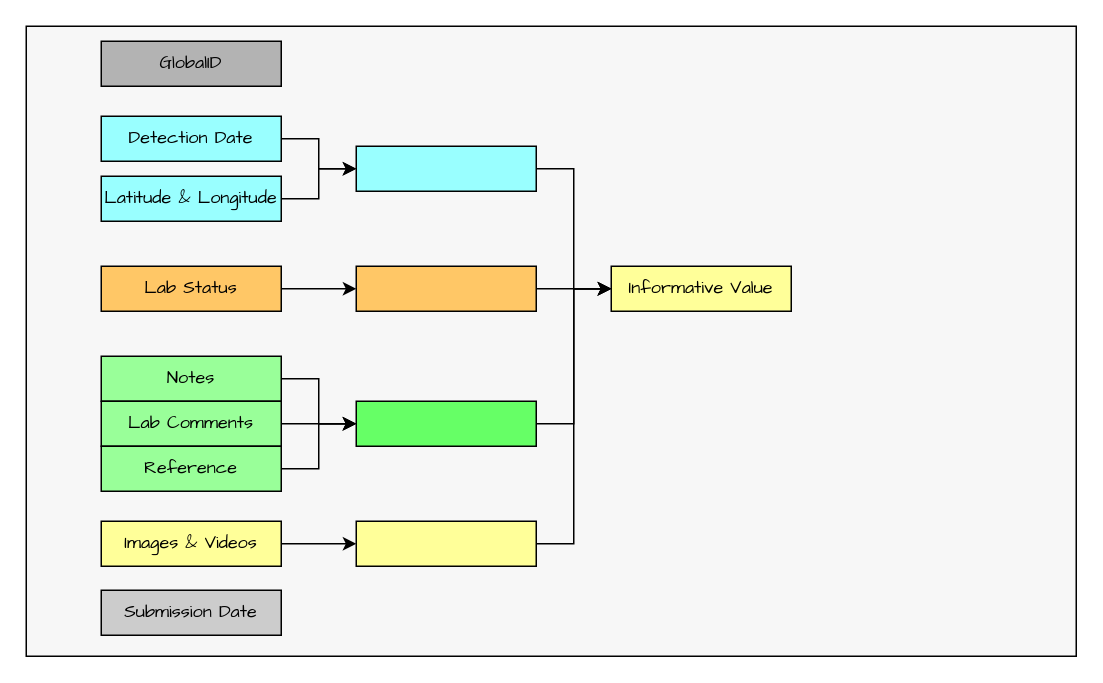
Image size: 1103x683. Some labels were removed from this diagram. The shapes that lost their labels are listed below. From the top down, each one's centre as x and y in pixels, then its label:
point 445,168: Temporal Spatial Features
point 445,288: Decision Features
point 445,423: Text-based Features
point 445,543: Visual Features
